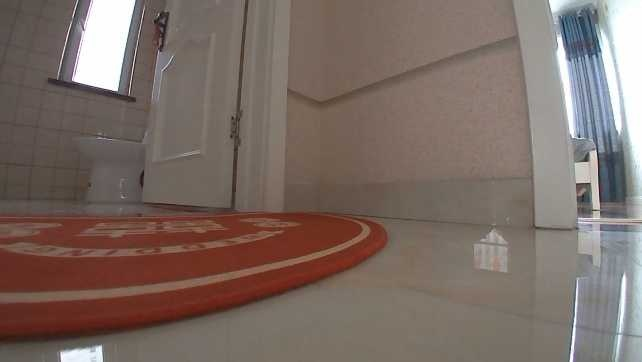blanket: (0, 208, 390, 343)
door_anno: (137, 0, 245, 209)
toilet: (70, 131, 148, 205)
